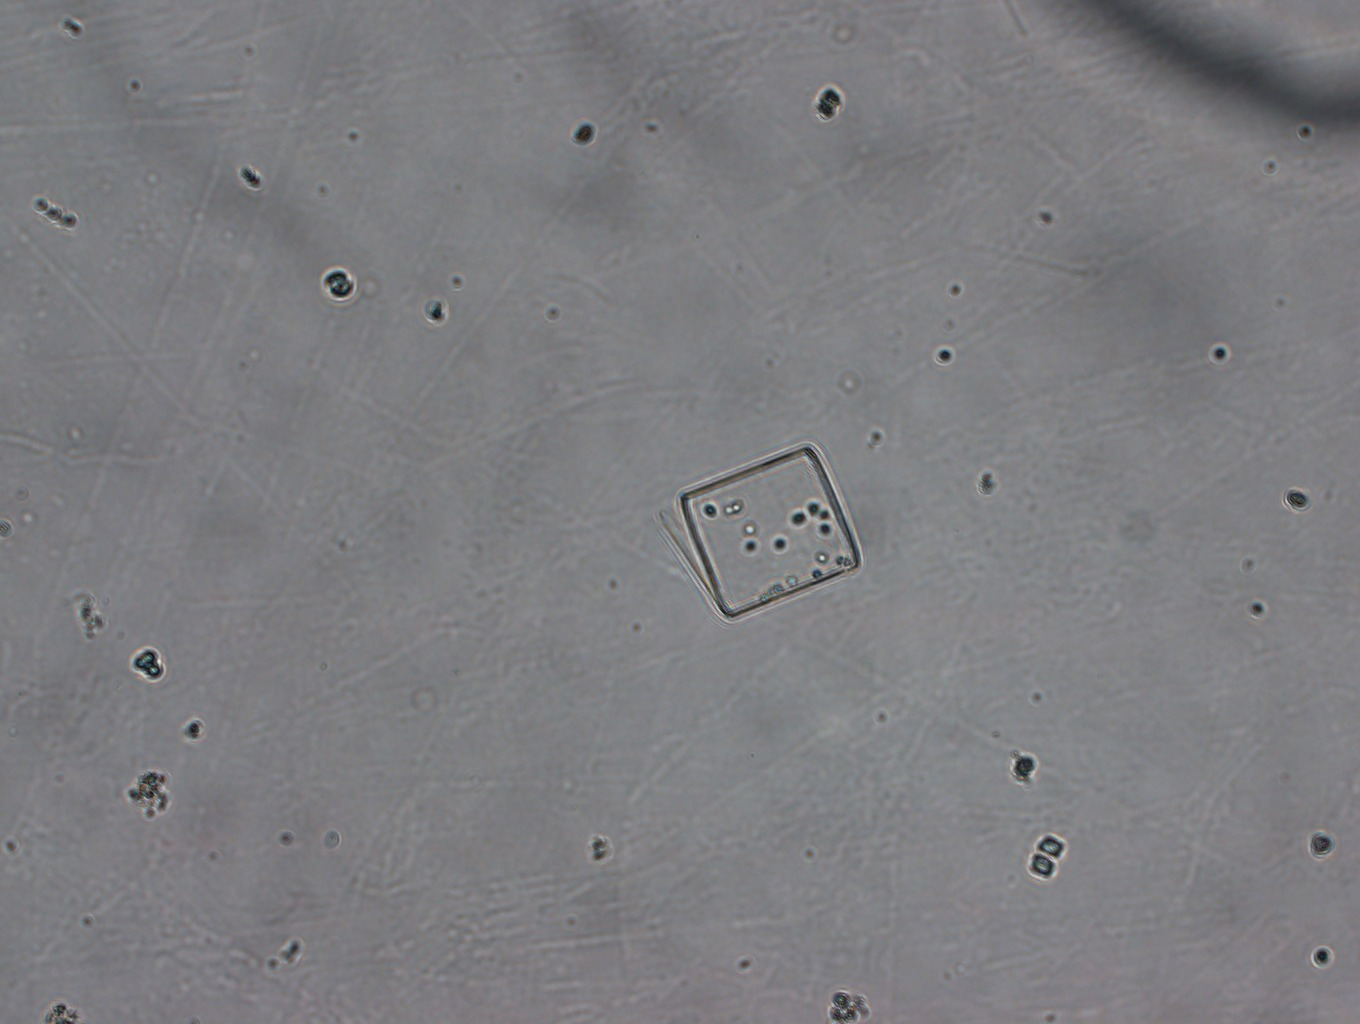guinardia flaccida: (656, 439, 864, 625)
